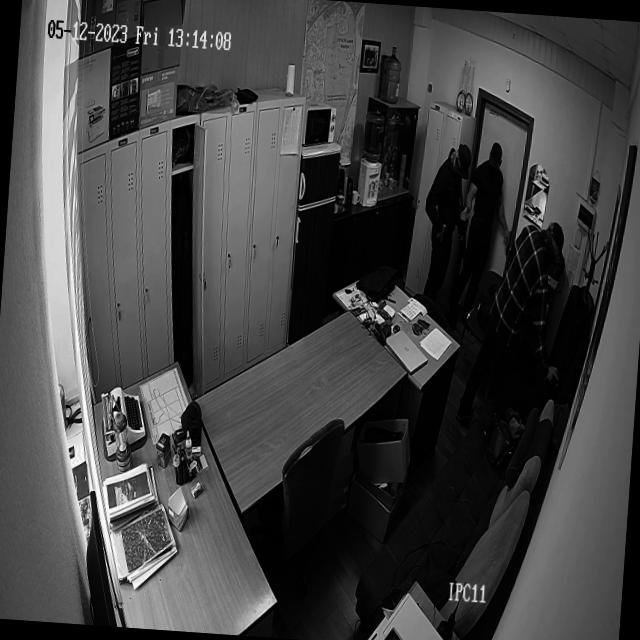gun: (454, 208, 470, 262)
person: (486, 222, 557, 398), (460, 143, 502, 318)
person with a gun: (422, 145, 468, 296)
